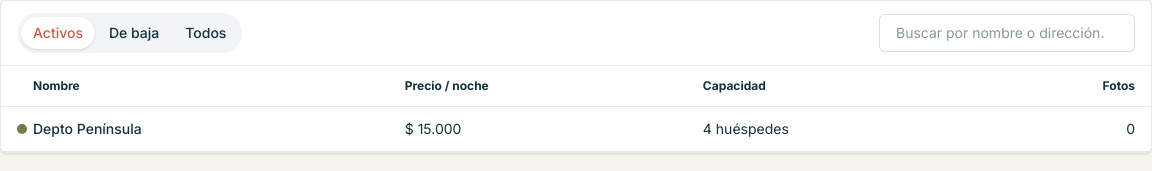
Test case: AlojamientosTable — filtros y búsqueda › la pestaña 'De baja' filtra por inactivos
Click the button "De baja" at (134, 33), box [97,17,171,49]
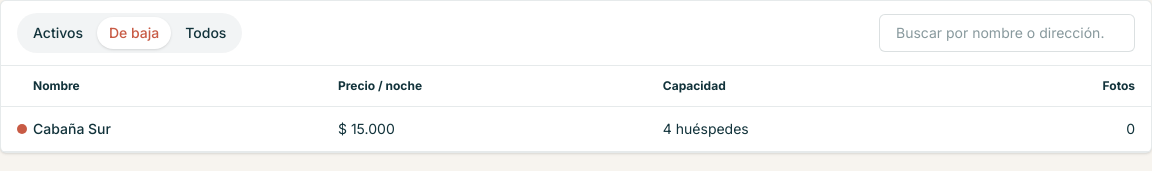
Now the text "Cabaña Sur" is shown, box [33,106,338,152]
Now the text "Depto Península" is gone
